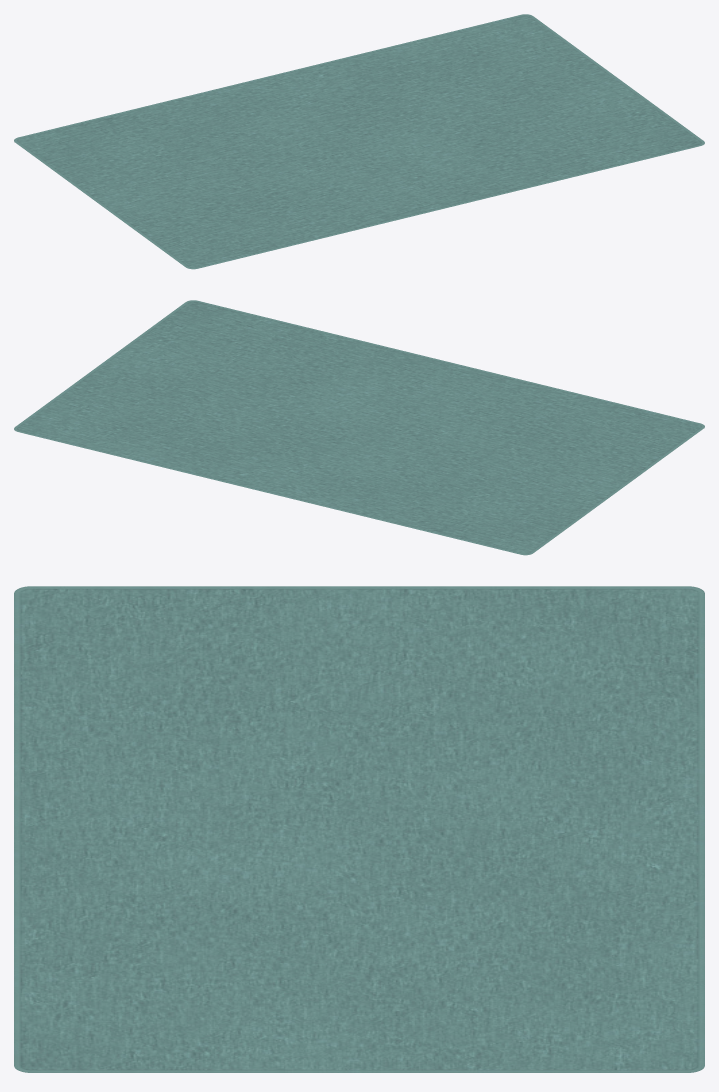
Rendered from green_widehall_r90.glb.
3 renders of one model, top to bottom at view 1: azimuth 30°, elevation 25°; view 2: azimuth 150°, elevation 25°; view 3: azimuth 270°, elevation 25°, orthographic. The views are drawn at different scales.
Visible parts, largest first — view 1: reliv_green_widehall_r90; view 2: reliv_green_widehall_r90; view 3: reliv_green_widehall_r90.
Part boxes in pixels (<box>): reliv_green_widehall_r90: <box>14,14,704,269</box>; reliv_green_widehall_r90: <box>14,300,704,555</box>; reliv_green_widehall_r90: <box>14,586,704,1072</box>.
Size of the model in its own units: 2 by 0.009 by 1.2.
2 materials, 1 textured.
